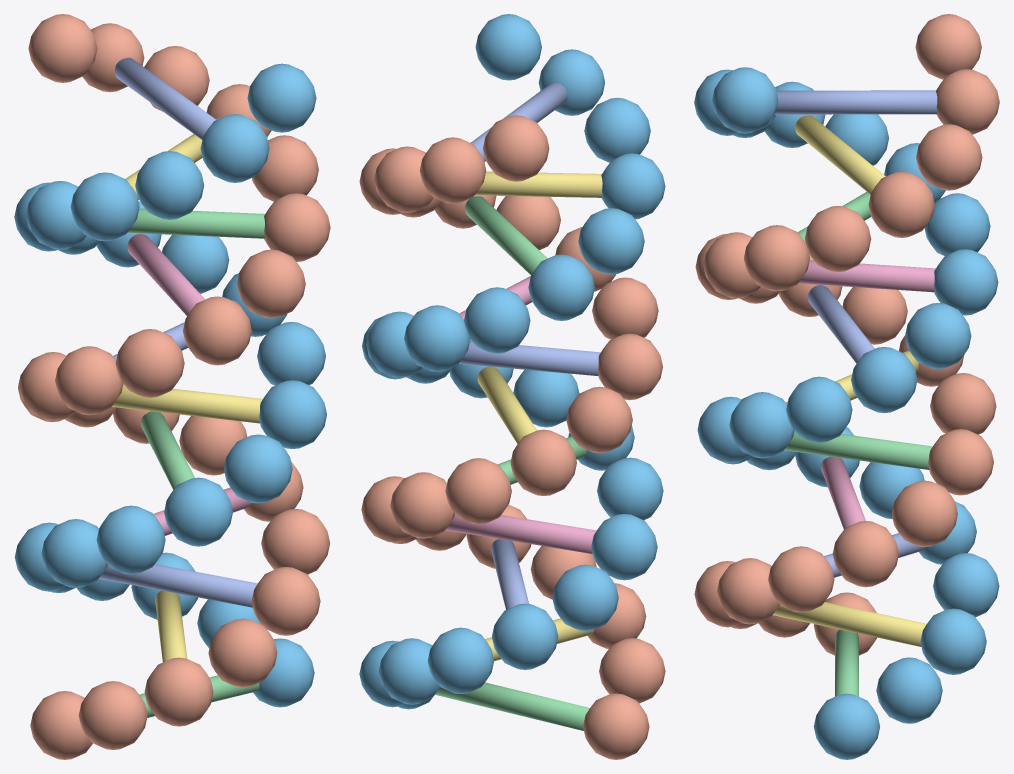
File: dna_double_helix.glb
The picture shows the model from 3 angles, left to right: view 1: azimuth 30°, elevation 25°; view 2: azimuth 150°, elevation 25°; view 3: azimuth 270°, elevation 25°; orthographic projection. The views are drawn at different scales.
Parts seen in each view (by area): view 1: Sphere; view 2: Sphere; view 3: Sphere.
Boxes of the visible parts, left/top/right/bottom form: Sphere: left=14, top=14, right=330, bottom=759; Sphere: left=359, top=14, right=665, bottom=759; Sphere: left=694, top=14, right=999, bottom=759.
Size of the model in its own units: 0.1673 by 0.4 by 0.1673.
